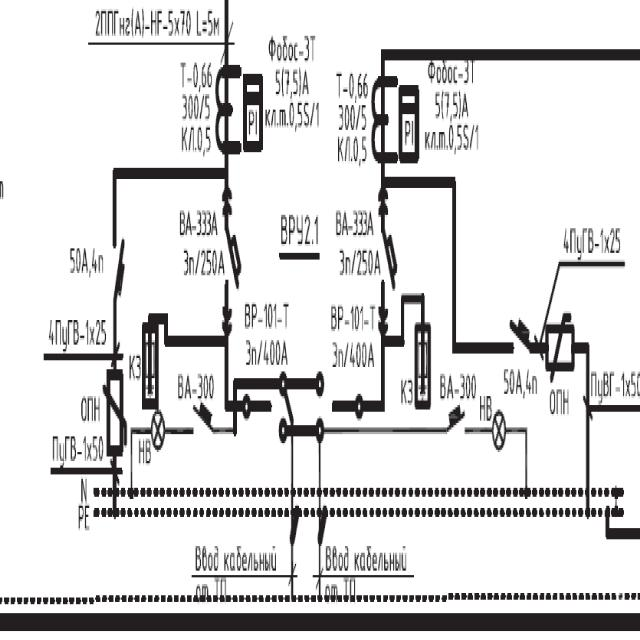-: (263, 28, 323, 136), (422, 55, 482, 155), (50, 387, 106, 463), (333, 57, 370, 167), (332, 202, 382, 280), (327, 296, 376, 372), (178, 54, 214, 156), (243, 296, 290, 370), (278, 204, 324, 262), (69, 237, 107, 284), (438, 365, 478, 403), (502, 357, 538, 397), (174, 364, 214, 400), (550, 380, 574, 420), (478, 390, 495, 424), (136, 433, 152, 467)
FV: (542, 298, 578, 386), (101, 362, 128, 470)
HL: (491, 410, 507, 452), (150, 406, 166, 448)
QF: (222, 210, 242, 302), (377, 215, 397, 306), (110, 220, 128, 314), (187, 395, 216, 442), (507, 310, 533, 359), (442, 400, 468, 440)
TT: (369, 67, 399, 163), (212, 59, 242, 154)
WH: (240, 67, 264, 157), (398, 78, 421, 168)
switch: (243, 372, 290, 444), (314, 372, 361, 444)
